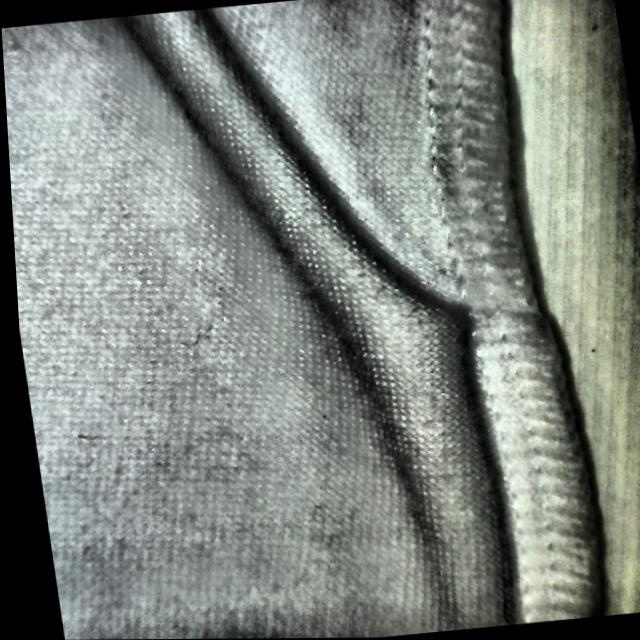seam: (309, 203, 580, 465)
